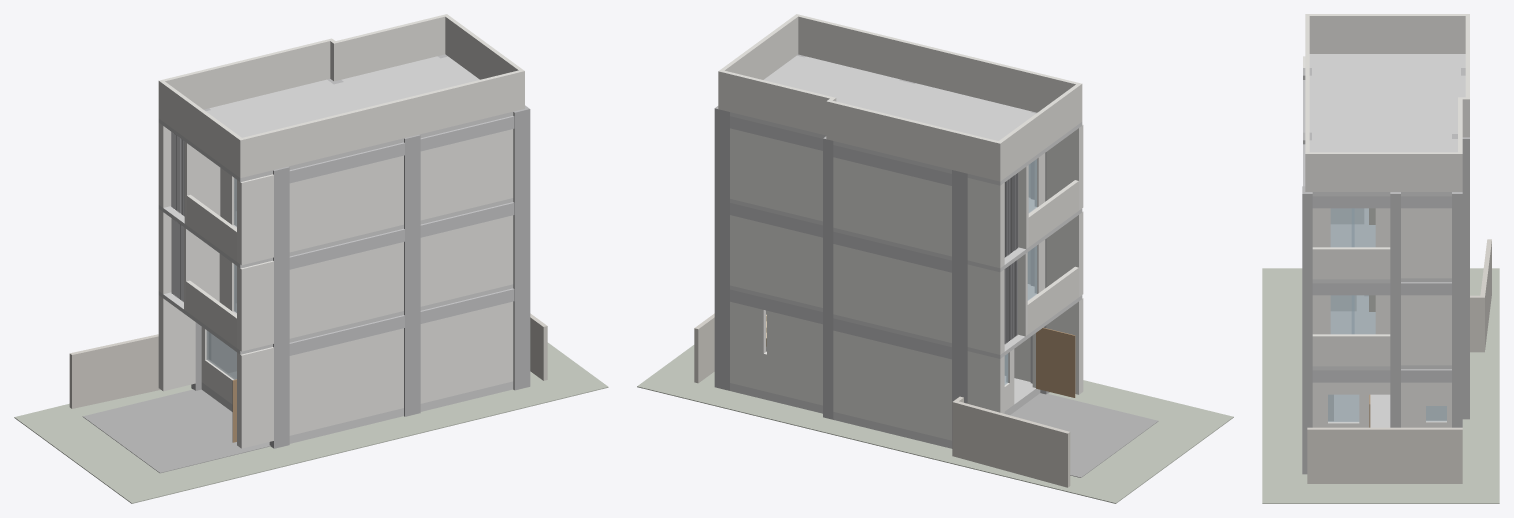
3 renders of one model, left to right at view 1: azimuth 30°, elevation 25°; view 2: azimuth 150°, elevation 25°; view 3: azimuth 270°, elevation 25°, orthographic.
Parts seen in each view (by area): view 1: RF_parapet, 1F_wall, 3F_wall, 2F_wall, GL_ground, RF_slab, GL_paving, GL_fence, 1F_column, 3F_column, 2F_column, 2F_beam (+10 smaller); view 2: RF_parapet, 1F_wall, 2F_wall, 3F_wall, GL_ground, RF_slab, GL_fence, GL_paving, 3F_column, 2F_column, 1F_column, 2F_beam (+10 smaller); view 3: GL_ground, RF_slab, RF_parapet, GL_fence, 3F_wall, 2F_wall, 1F_wall, 3F_column, 2F_column, 1F_column, 2F_parapet, 3F_parapet (+9 smaller).
Part boxes in pixels (x1,y1,x2,y2): RF_parapet: (158, 14, 524, 177); 1F_wall: (158, 295, 513, 448); 3F_wall: (158, 123, 513, 265); 2F_wall: (158, 209, 513, 351); GL_ground: (14, 342, 608, 503); RF_slab: (158, 56, 513, 182); GL_paving: (82, 389, 270, 473); GL_fence: (69, 313, 547, 408); 1F_column: (191, 281, 530, 448); 3F_column: (204, 54, 530, 257); 2F_column: (273, 195, 530, 343); 2F_beam: (289, 288, 514, 355); RF_parapet: (718, 14, 1082, 181); 1F_wall: (730, 298, 1083, 440); 2F_wall: (730, 211, 1083, 354); 3F_wall: (730, 124, 1083, 268); GL_ground: (637, 345, 1233, 503); RF_slab: (730, 55, 1082, 185); GL_fence: (694, 313, 1070, 487); GL_paving: (1010, 393, 1158, 477); 3F_column: (714, 54, 1046, 260); 2F_column: (714, 195, 1046, 346); 1F_column: (714, 282, 1049, 448); 2F_beam: (730, 289, 951, 359); GL_ground: (1262, 268, 1499, 503); RF_slab: (1309, 54, 1465, 196); RF_parapet: (1305, 14, 1469, 191); GL_fence: (1307, 239, 1491, 483); 3F_wall: (1303, 56, 1451, 278); 2F_wall: (1312, 295, 1451, 365); 1F_wall: (1312, 382, 1451, 427); 3F_column: (1302, 68, 1469, 280); 2F_column: (1302, 226, 1469, 367); 1F_column: (1302, 313, 1469, 474); 2F_parapet: (1312, 334, 1390, 366); 3F_parapet: (1312, 247, 1390, 279).
Size of the model in its own units: 18.5 by 11.73 by 7.9.
